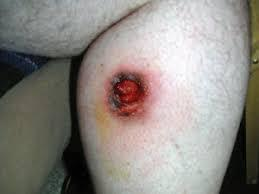Spider: (107, 68, 145, 118)
